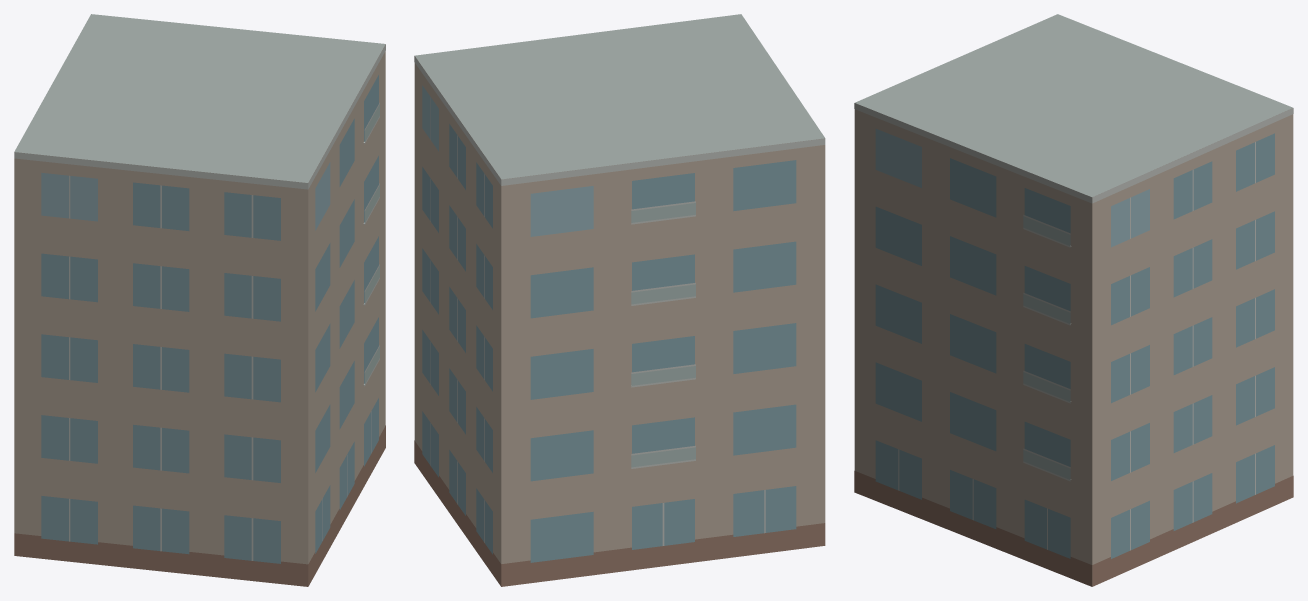
File: survey-upis-32951019.glb
3 renders of one model, left to right at view 1: azimuth 30°, elevation 25°; view 2: azimuth 150°, elevation 25°; view 3: azimuth 270°, elevation 25°, orthographic. The views are drawn at different scales.
Parts seen in each view (by area): view 1: survey-upis-32951019.tmp; view 2: survey-upis-32951019.tmp; view 3: survey-upis-32951019.tmp.
Part boxes in pixels (<box>): survey-upis-32951019.tmp: <box>14,14,385,586</box>; survey-upis-32951019.tmp: <box>414,14,825,586</box>; survey-upis-32951019.tmp: <box>854,14,1293,586</box>.
Bounding box in the file's own units: 15.35 × 15.2 × 15.53.
